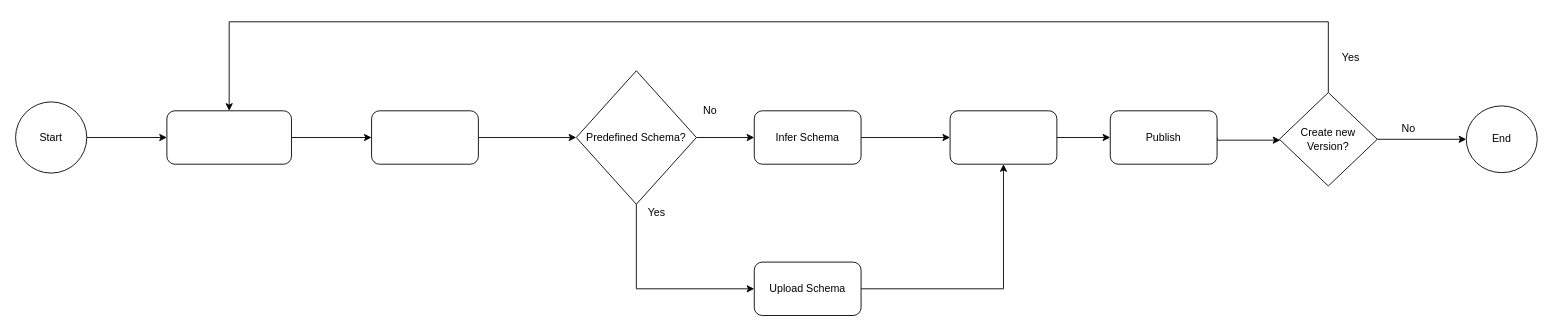
Some shapes in this 1553 by 331 pixel diagram are drawn without their labels. Here are the shapes that lost their labels. From the top down, the box of each, then its label:
(166, 110, 291, 164): Create Dataset (In Progress)
(371, 110, 478, 164): Upload Data
(949, 110, 1057, 164): Upload Metadata
